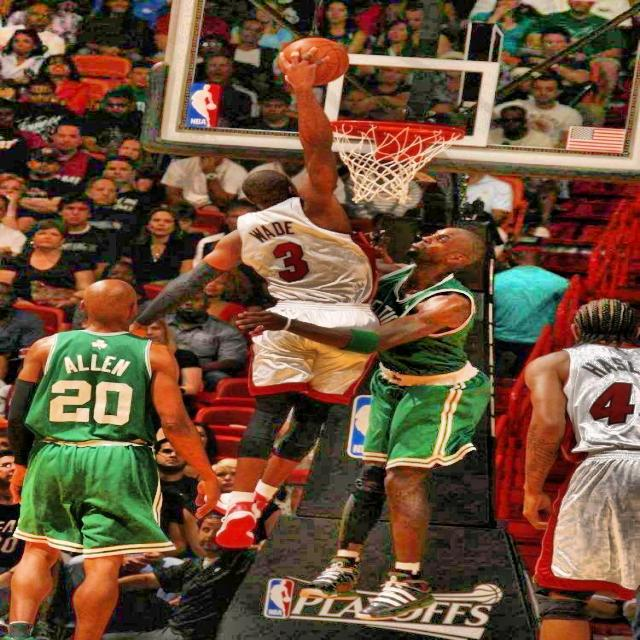rim: (328, 120, 464, 203)
